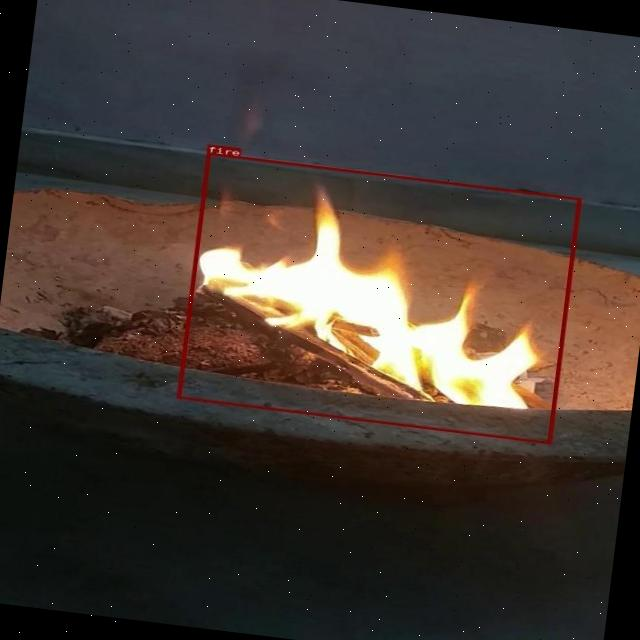fire: (176, 152, 580, 444)
